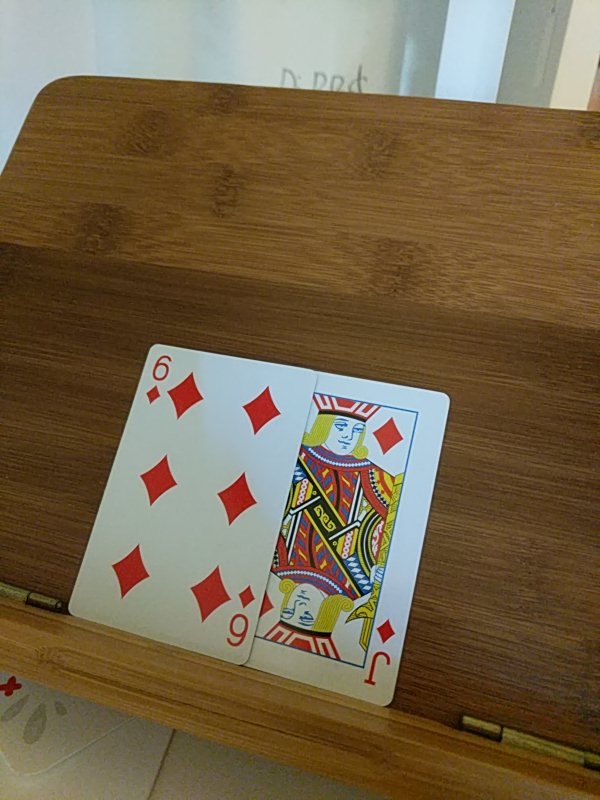Diamonds: (64, 342, 316, 663), (245, 365, 450, 708)
